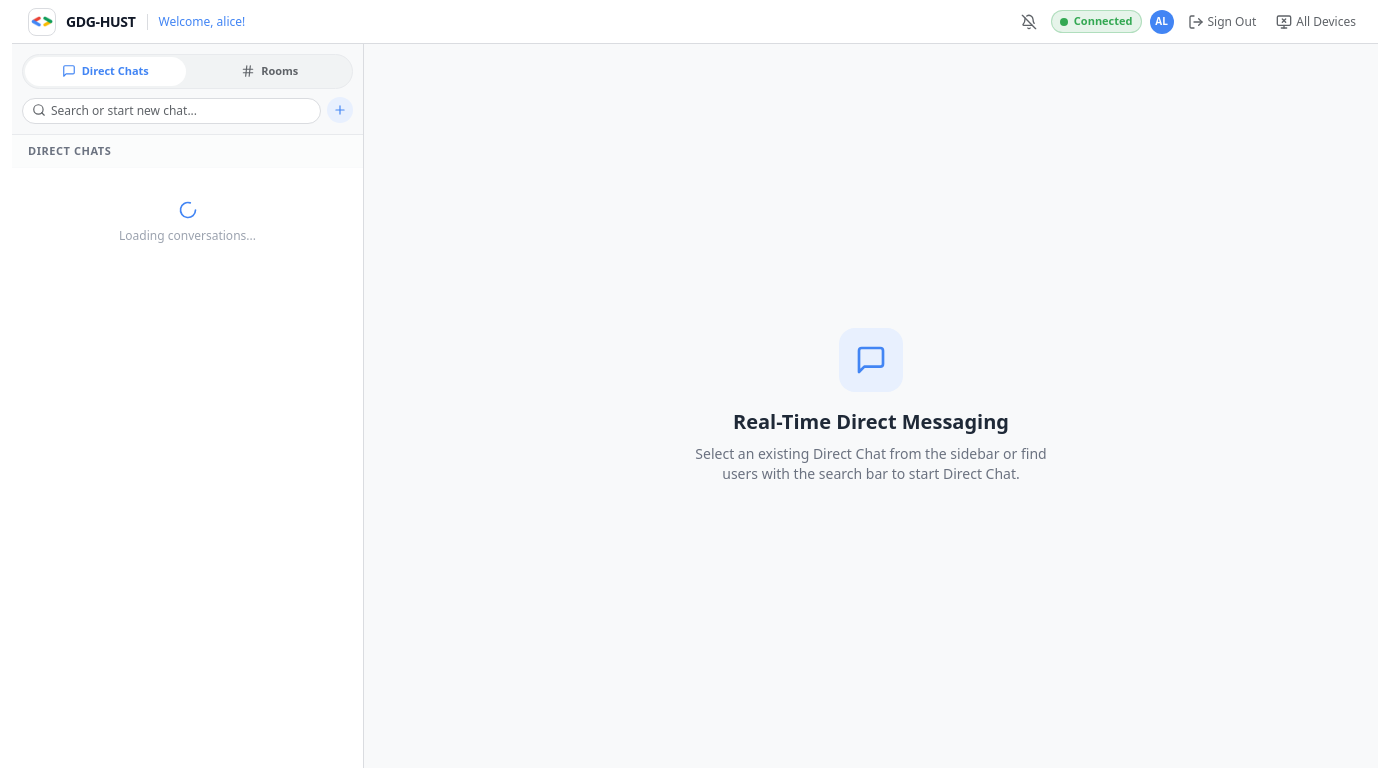
Test: Rate limit notices (SEC-07) › RATE_LIMITED on a Room message shows the wait time and keeps the draft
This screenshot has width=1378, height=768.
Click the button "Rooms" at point(270, 71), box [190,57,350,86]
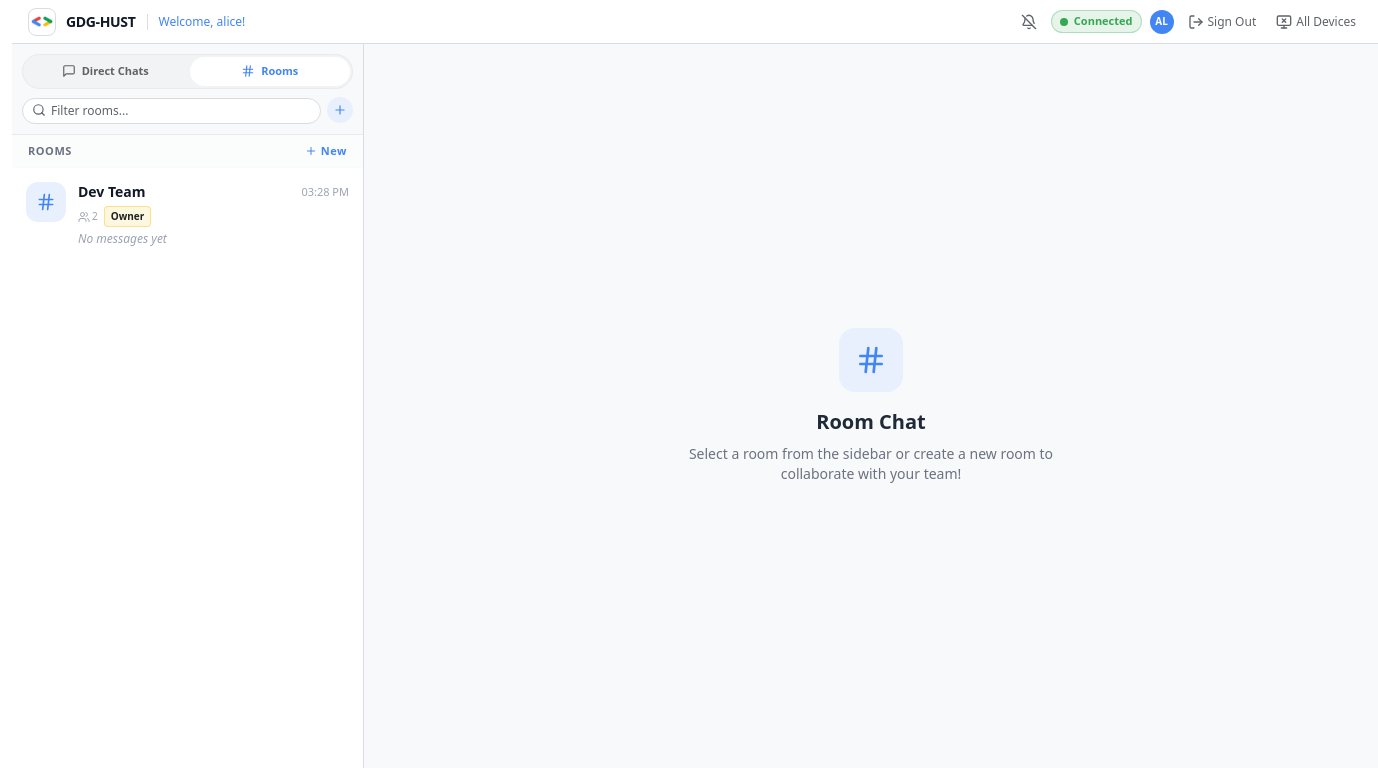
Click the text "Dev Team" at point(112, 192), box [78,182,146,202]
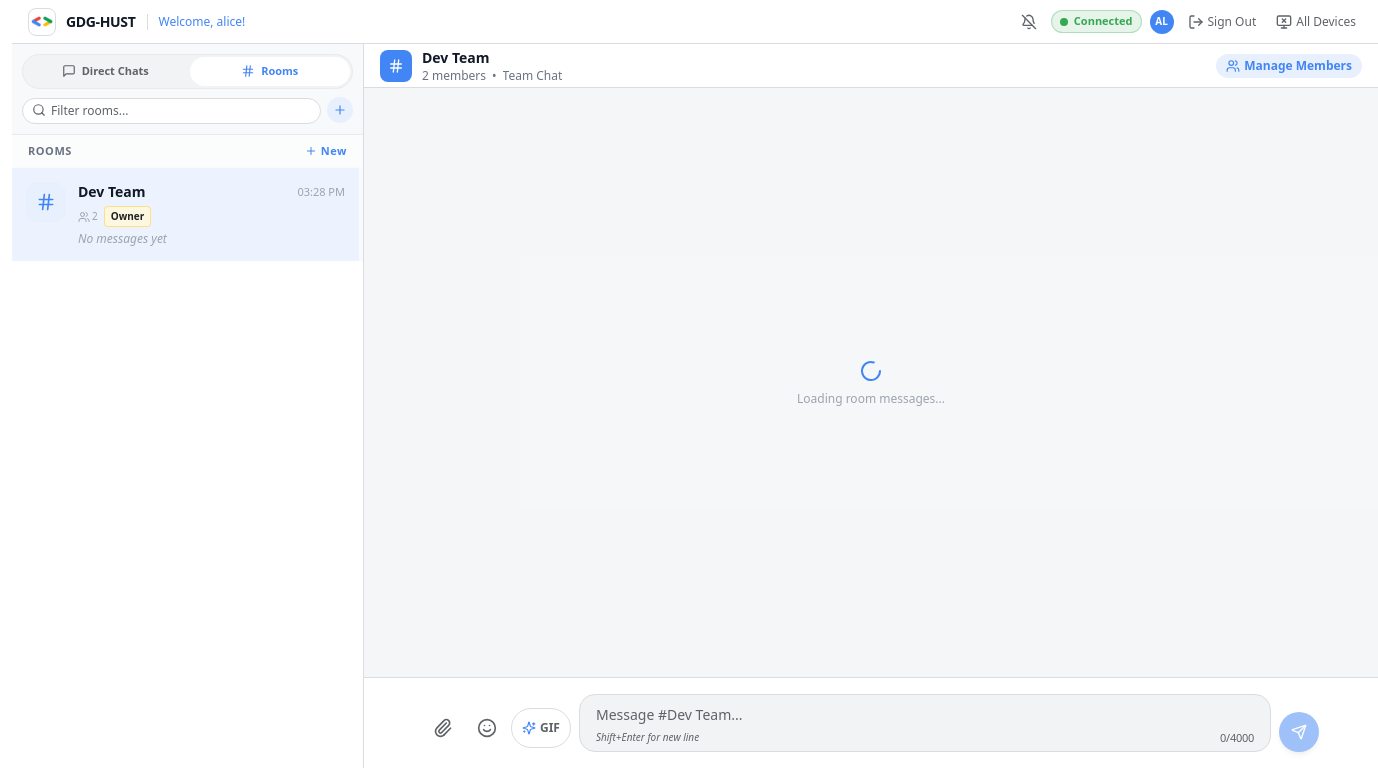
Type "hello team" into the text box with placeholder "Message #Dev Team..." at point(925, 715), box [596,705,1254,725]
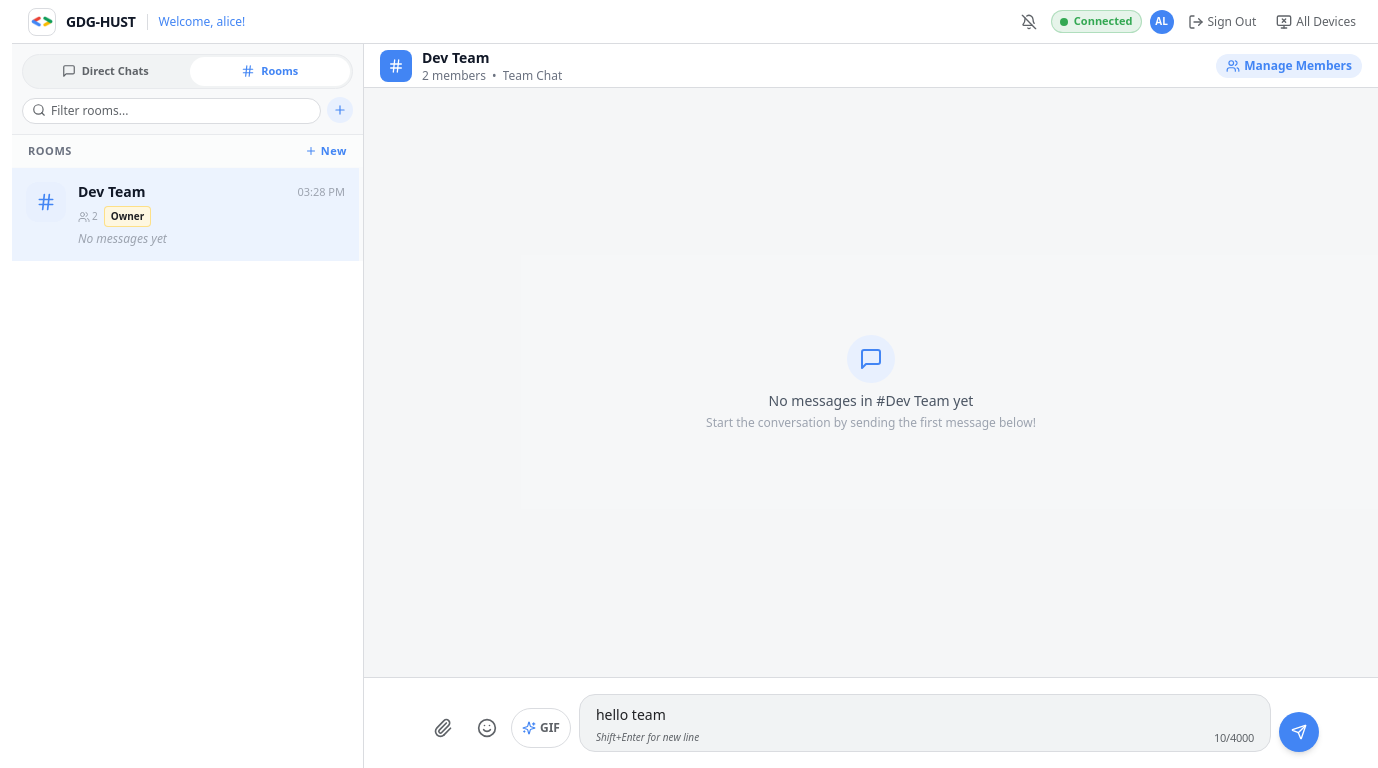
Press Enter in the text box with placeholder "Message #Dev Team...", box [596,705,1254,725]
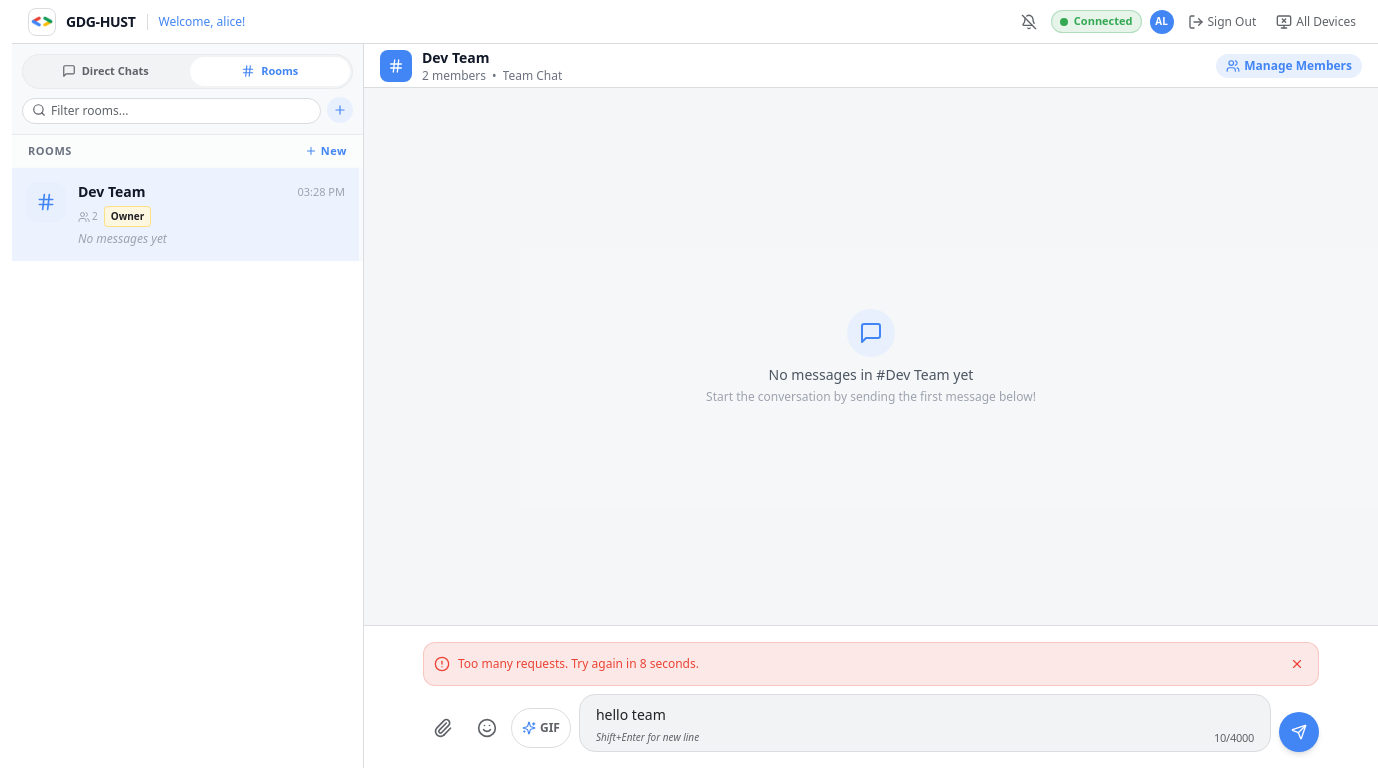
Now the message shows "Try again in 8 seconds", box [458,655,699,672]
